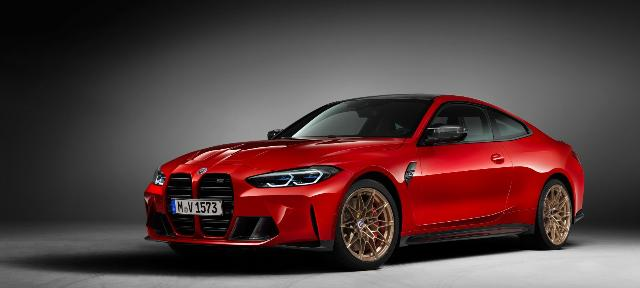bmw: (143, 92, 584, 268)
